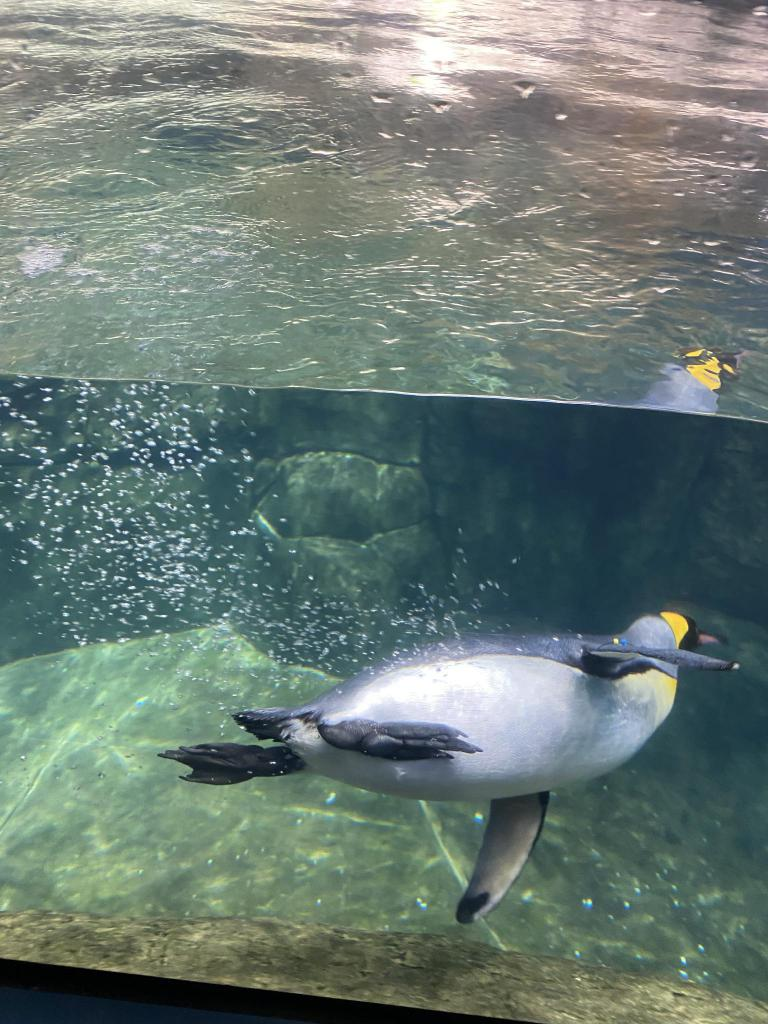penguin: (157, 610, 740, 924)
